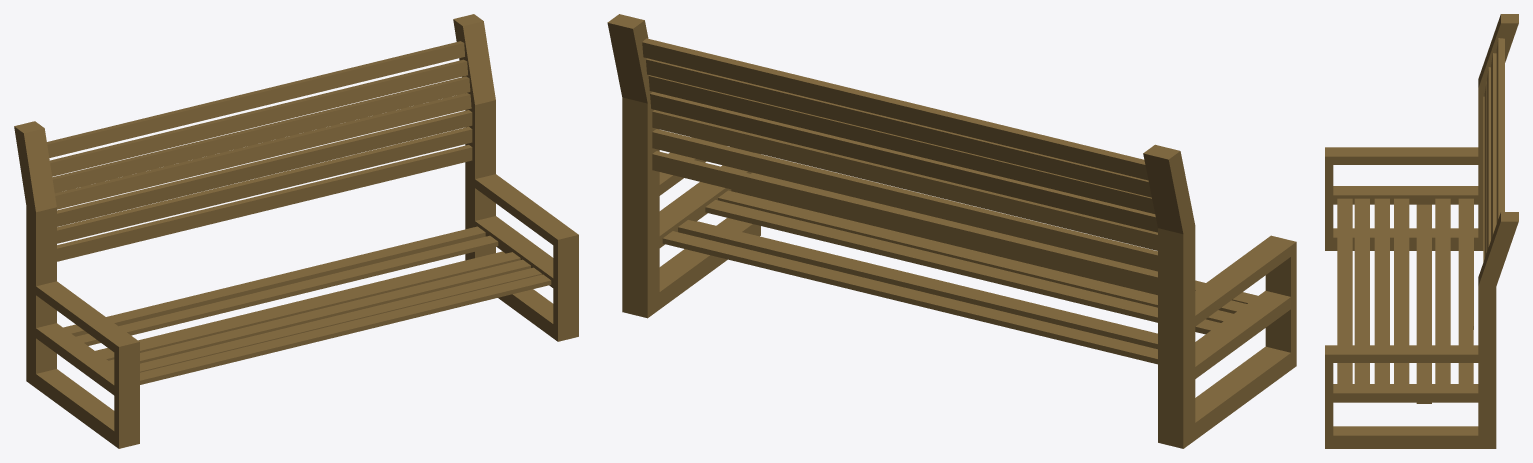
File: bench.fbx
3 renders of one model, left to right at view 1: azimuth 30°, elevation 25°; view 2: azimuth 150°, elevation 25°; view 3: azimuth 270°, elevation 25°, orthographic. The views are drawn at different scales.
Visible parts, largest first — view 1: Объект_Куб.042, Объект_Куб.002, Объект_Куб.043, Объект_Куб.047; view 2: Объект_Куб.002, Объект_Куб.042, Объект_Куб.043, Объект_Куб.047; view 3: Объект_Куб.042, Объект_Куб.002, Объект_Куб.047, Объект_Куб.043.
Boxes of the visible parts, box(x1,y1,x2,y2) form: Объект_Куб.042: box(331, 14, 578, 341); Объект_Куб.002: box(14, 119, 229, 448); Объект_Куб.043: box(123, 67, 389, 241); Объект_Куб.047: box(112, 251, 466, 362); Объект_Куб.002: box(986, 133, 1296, 448); Объект_Куб.042: box(607, 14, 920, 318); Объект_Куб.043: box(751, 71, 1068, 268); Объект_Куб.047: box(785, 210, 1157, 352); Объект_Куб.042: box(1325, 177, 1518, 448); Объект_Куб.002: box(1325, 14, 1518, 254); Объект_Куб.047: box(1337, 222, 1473, 345); Объект_Куб.043: box(1483, 82, 1504, 243).
Size of the model in its own units: 2.66 by 1.36 by 1.05.
